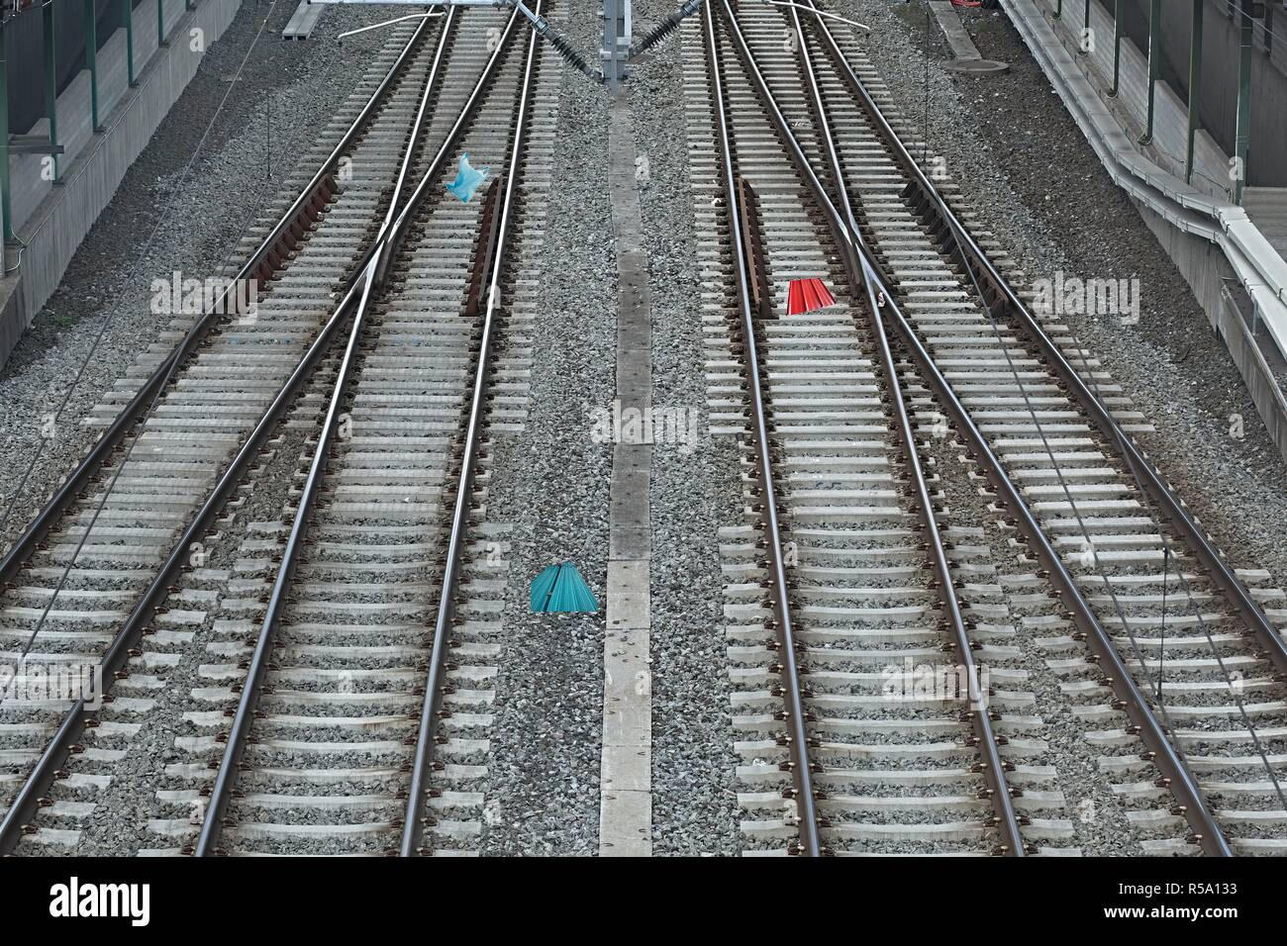Color_steel: (509, 560, 600, 621), (782, 271, 834, 323)
Plastic: (447, 150, 497, 208)
